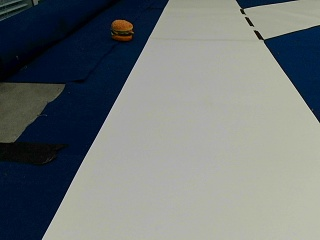burger: (110, 17, 134, 40)
